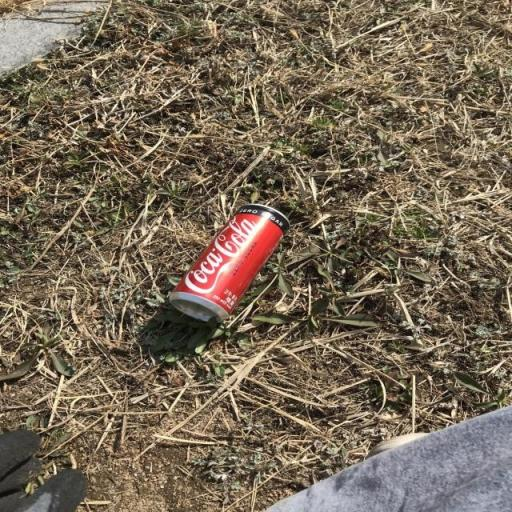metal: (142, 192, 296, 344)
